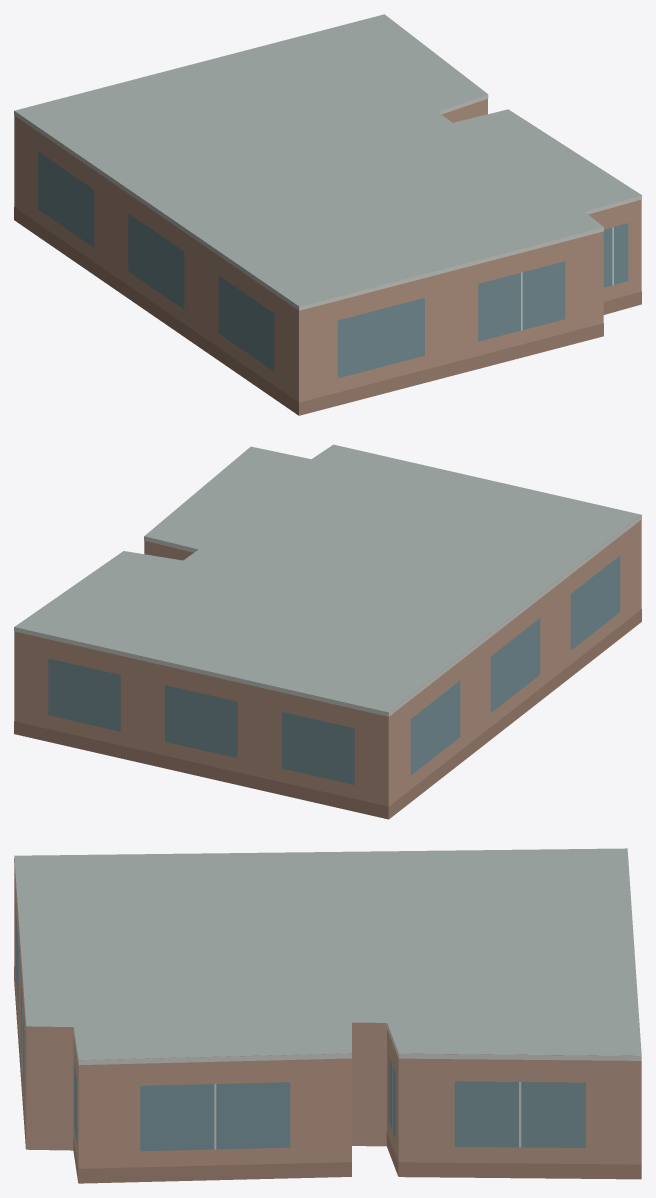
The model's file is survey-upis-33042944.glb.
The picture shows the model from 3 angles, top to bottom: view 1: azimuth 30°, elevation 25°; view 2: azimuth 150°, elevation 25°; view 3: azimuth 270°, elevation 25°; orthographic projection. The views are drawn at different scales.
Parts seen in each view (by area): view 1: survey-upis-33042944.tmp; view 2: survey-upis-33042944.tmp; view 3: survey-upis-33042944.tmp.
Part boxes in pixels (bbox=[...]): survey-upis-33042944.tmp: bbox=[14, 14, 641, 415]; survey-upis-33042944.tmp: bbox=[14, 444, 641, 819]; survey-upis-33042944.tmp: bbox=[14, 848, 641, 1183].
Bounding box in the file's own units: 11.23 × 3.05 × 14.07.
